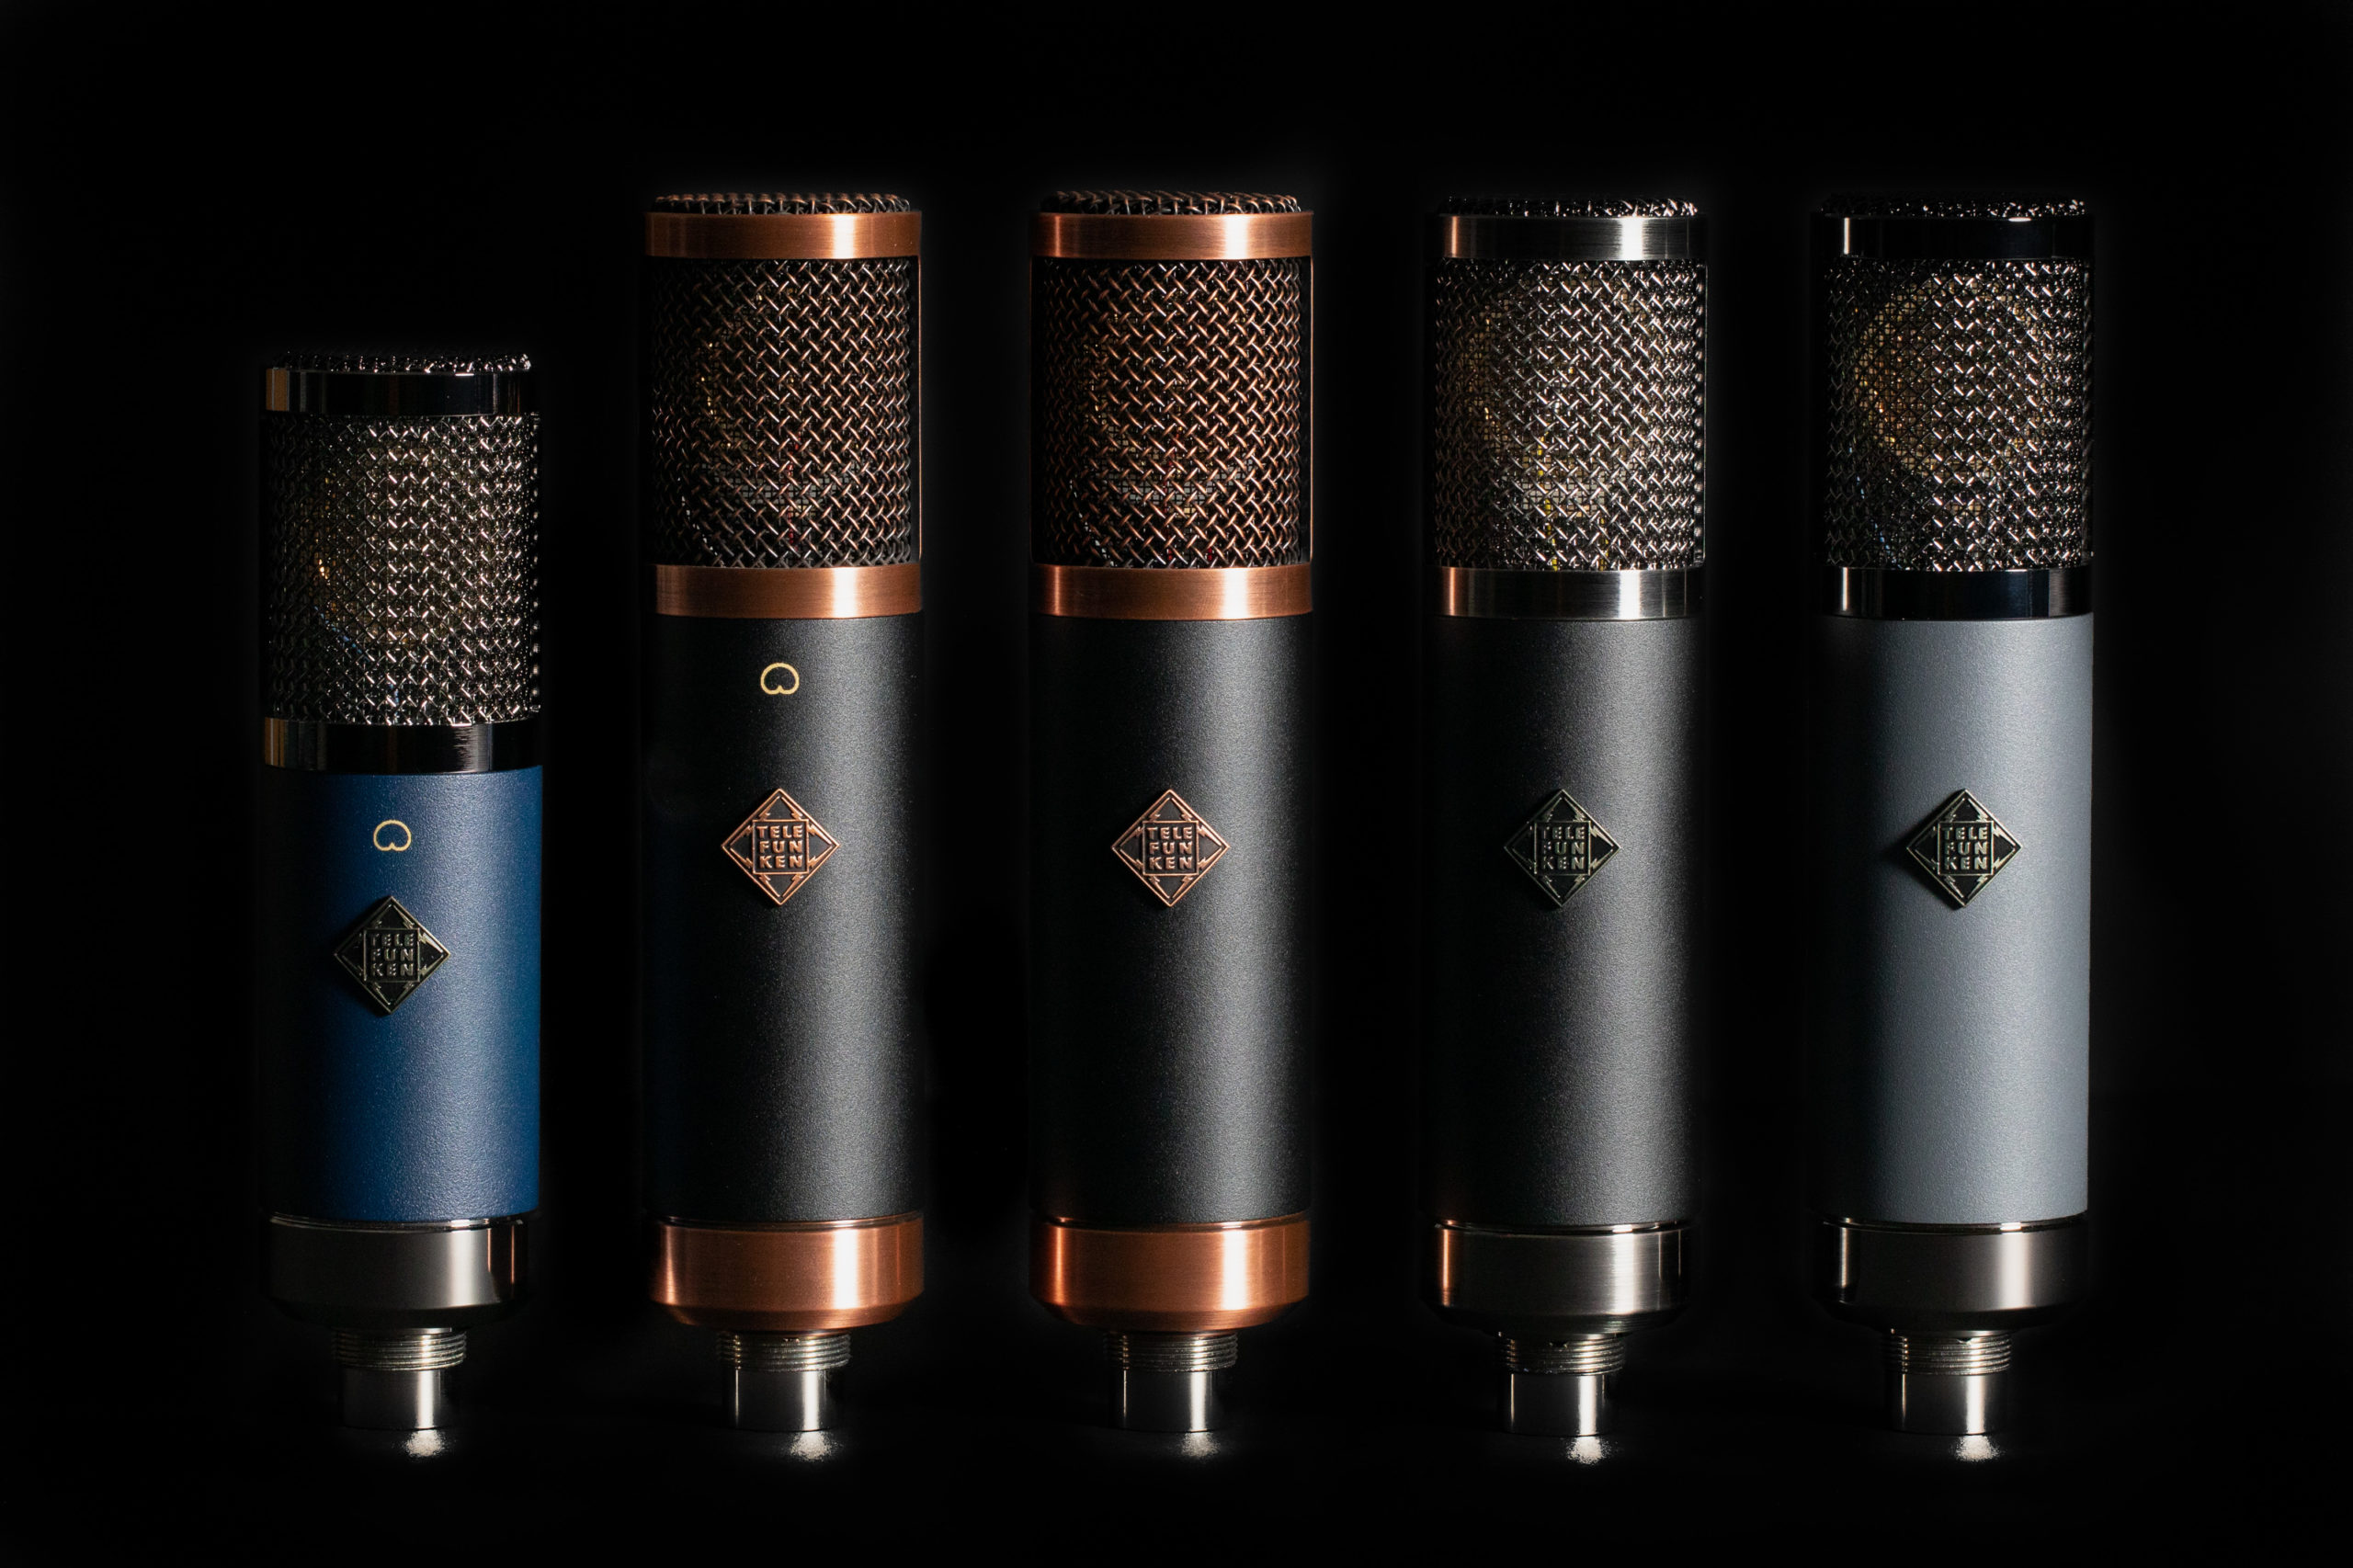microphone: (1020, 180, 1316, 1473), (1807, 193, 2103, 1467), (642, 185, 932, 1470), (1433, 185, 1709, 1472), (255, 341, 548, 1472)
